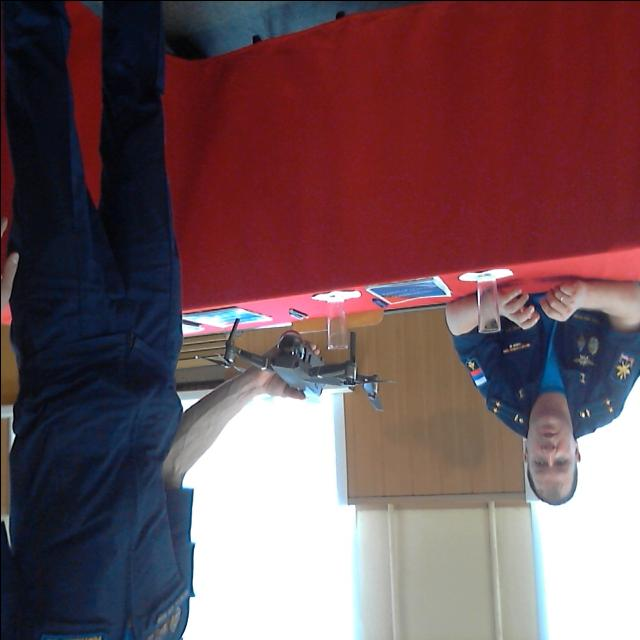drone: (178, 318, 393, 428)
